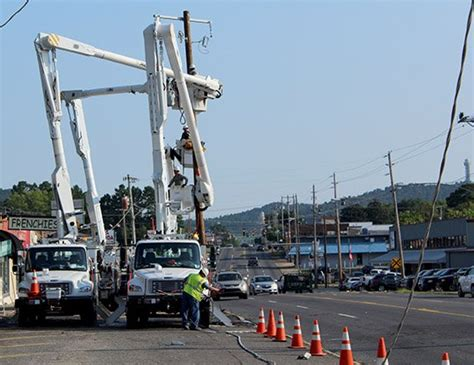pole: (323, 160, 419, 283)
